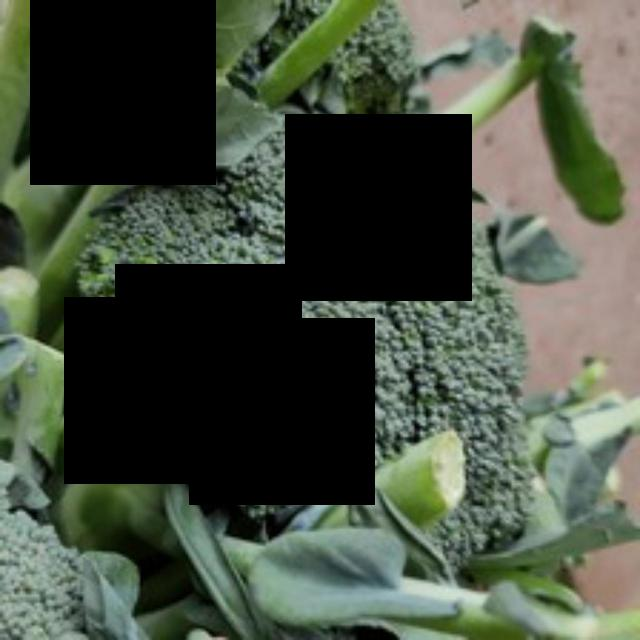broccoli: (82, 93, 542, 541)
